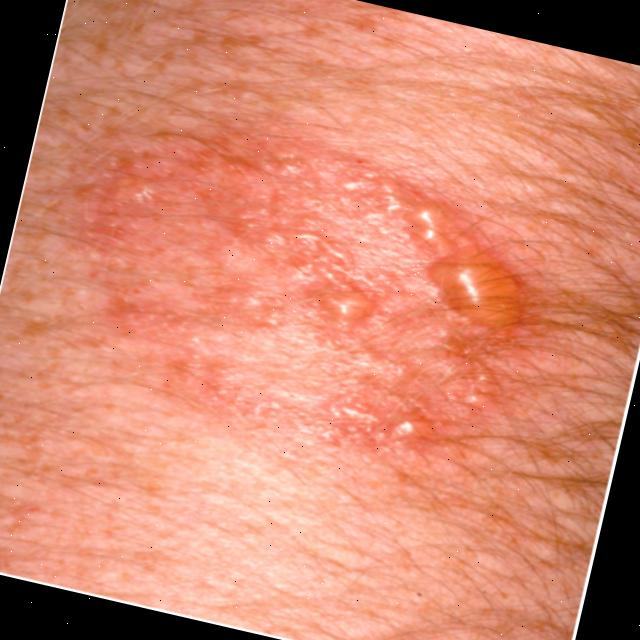kan emici bocekler: (22, 78, 575, 495)
